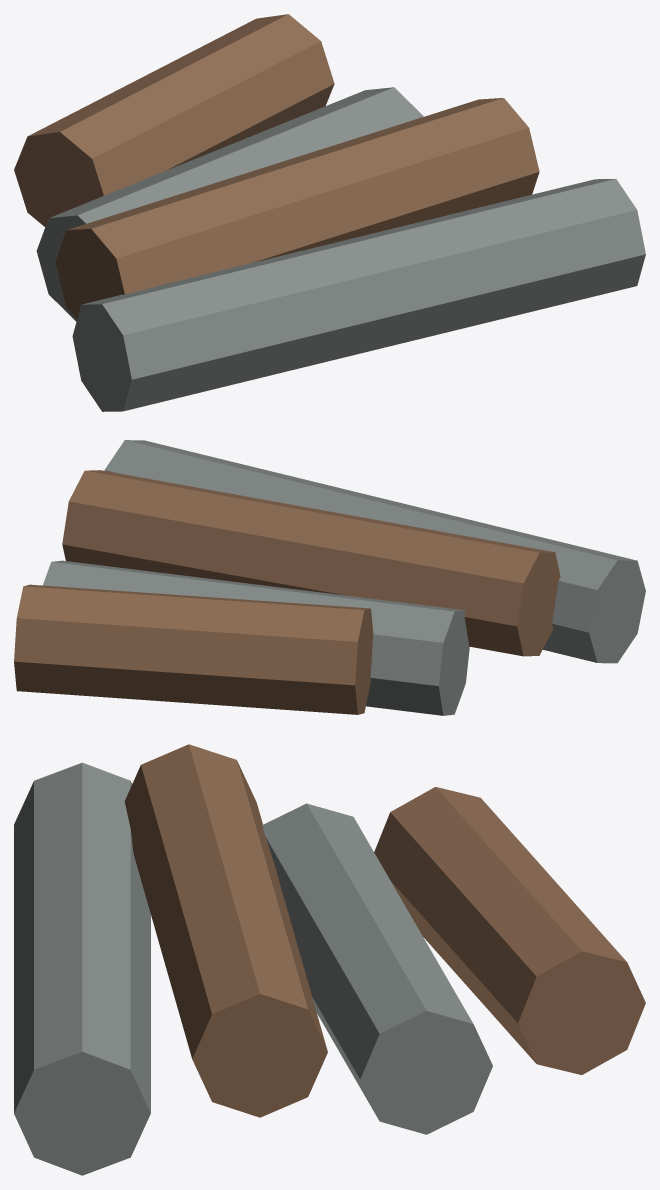
File: v2_scrap_pipes.glb
The picture shows the model from 3 angles, top to bottom: view 1: azimuth 30°, elevation 25°; view 2: azimuth 150°, elevation 25°; view 3: azimuth 270°, elevation 25°; orthographic projection. The views are drawn at different scales.
Parts seen in each view (by area): view 1: Cylinder; view 2: Cylinder; view 3: Cylinder.
Boxes of the visible parts, bbox=[...] form: Cylinder: bbox=[14, 14, 645, 411]; Cylinder: bbox=[14, 440, 645, 715]; Cylinder: bbox=[14, 744, 645, 1175].
Bounding box in the file's own units: 1.05 × 0.2739 × 0.9674.
